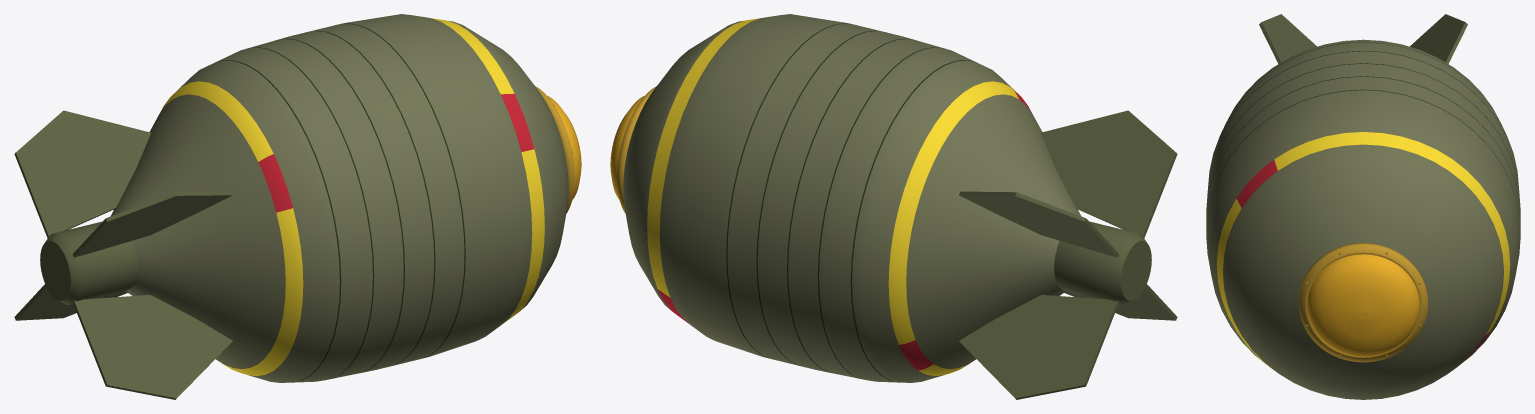
File: Heavy_Bomb_Reference_05.glb
3 renders of one model, left to right at view 1: azimuth 30°, elevation 25°; view 2: azimuth 150°, elevation 25°; view 3: azimuth 270°, elevation 25°, orthographic. The views are drawn at different scales.
Visible parts, largest first — view 1: Bomb_Barrel_And_Tapered_Rear, Bomb_Exposed_TailFin_2, Bomb_Exposed_TailFin_0, Bomb_TailHub, Bomb_Exposed_TailFin_1, Bomb_Exposed_TailFin_3, Bomb_Yellow_Nose_Rim, Bomb_Yellow_Rounded_Nose; view 2: Bomb_Barrel_And_Tapered_Rear, Bomb_Exposed_TailFin_3, Bomb_Exposed_TailFin_1, Bomb_TailHub, Bomb_Exposed_TailFin_0, Bomb_Exposed_TailFin_2, Bomb_Yellow_Nose_Rim, Bomb_Yellow_Rounded_Nose; view 3: Bomb_Barrel_And_Tapered_Rear, Bomb_Yellow_Rounded_Nose, Bomb_Yellow_Nose_Rim, Bomb_Exposed_TailFin_0, Bomb_Exposed_TailFin_1.
Boxes of the visible parts, x1=… form: Bomb_Barrel_And_Tapered_Rear: x1=110, y1=14, x2=568, y2=382; Bomb_Exposed_TailFin_2: x1=72, y1=295, x2=232, y2=399; Bomb_Exposed_TailFin_0: x1=14, y1=110, x2=150, y2=238; Bomb_TailHub: x1=40, y1=221, x2=137, y2=304; Bomb_Exposed_TailFin_1: x1=72, y1=191, x2=232, y2=257; Bomb_Exposed_TailFin_3: x1=14, y1=284, x2=127, y2=320; Bomb_Yellow_Nose_Rim: x1=535, y1=86, x2=574, y2=213; Bomb_Yellow_Rounded_Nose: x1=547, y1=95, x2=581, y2=199; Bomb_Barrel_And_Tapered_Rear: x1=623, y1=14, x2=1081, y2=382; Bomb_Exposed_TailFin_3: x1=959, y1=295, x2=1119, y2=399; Bomb_Exposed_TailFin_1: x1=1041, y1=110, x2=1177, y2=238; Bomb_TailHub: x1=1054, y1=221, x2=1151, y2=304; Bomb_Exposed_TailFin_0: x1=959, y1=191, x2=1119, y2=257; Bomb_Exposed_TailFin_2: x1=1064, y1=284, x2=1177, y2=320; Bomb_Yellow_Nose_Rim: x1=617, y1=86, x2=656, y2=213; Bomb_Yellow_Rounded_Nose: x1=610, y1=95, x2=644, y2=199; Bomb_Barrel_And_Tapered_Rear: x1=1206, y1=39, x2=1520, y2=399; Bomb_Yellow_Rounded_Nose: x1=1307, y1=254, x2=1419, y2=357; Bomb_Yellow_Nose_Rim: x1=1299, y1=243, x2=1427, y2=362; Bomb_Exposed_TailFin_0: x1=1410, y1=14, x2=1467, y2=63; Bomb_Exposed_TailFin_1: x1=1259, y1=14, x2=1316, y2=63.
Size of the model in its own units: 2.87 by 1.68 by 1.68.
